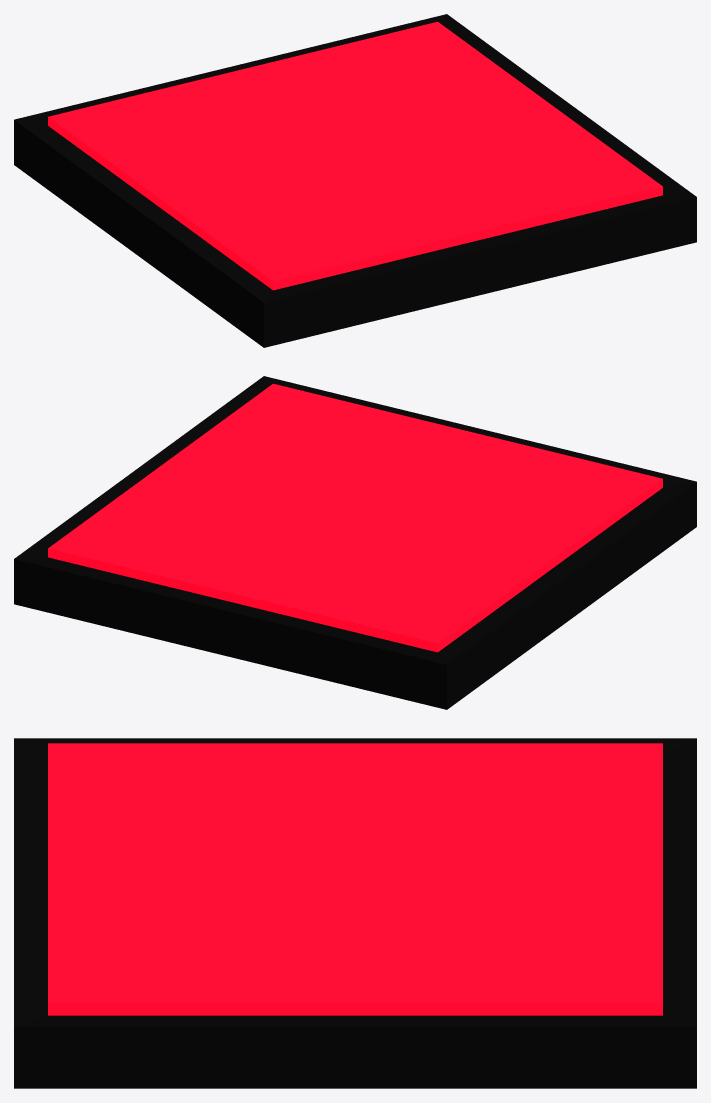
Rendered from DanceFloorTile.fbx.
3 views of the same model, one above another, from view 1: azimuth 30°, elevation 25°; view 2: azimuth 150°, elevation 25°; view 3: azimuth 270°, elevation 25° (orthographic). The views are drawn at different scales.
Parts seen in each view (by area): view 1: DiscoTile; view 2: DiscoTile; view 3: DiscoTile.
Boxes of the visible parts, x1,y1,x2,y2 form: DiscoTile: (14, 14, 696, 347); DiscoTile: (14, 376, 696, 709); DiscoTile: (14, 738, 696, 1088).
Bounding box in the file's own units: 100 × 13 × 100.
